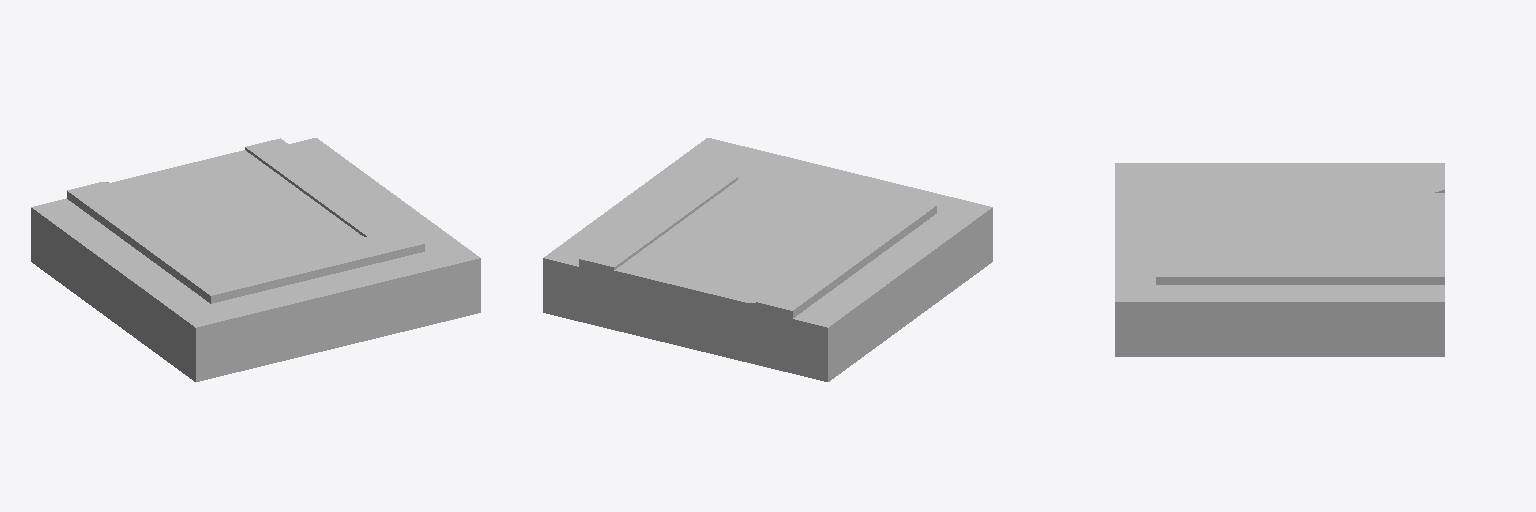
File: roadTile_038.obj
3 renders of one model, left to right at view 1: azimuth 30°, elevation 25°; view 2: azimuth 150°, elevation 25°; view 3: azimuth 270°, elevation 25°, orthographic.
Parts seen in each view (by area): view 1: Mesh1_Group1_Model.001; view 2: Mesh1_Group1_Model.001; view 3: Mesh1_Group1_Model.001.
Boxes of the visible parts, x1=… form: Mesh1_Group1_Model.001: x1=31, y1=138, x2=480, y2=381; Mesh1_Group1_Model.001: x1=543, y1=138, x2=992, y2=381; Mesh1_Group1_Model.001: x1=1115, y1=163, x2=1444, y2=356.
Bounding box in the file's own units: 1.08 × 0.2268 × 1.08.